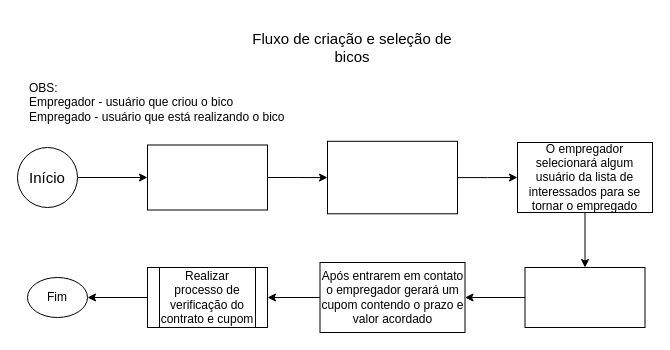
The diagram is 670 pixels wide and 350 high, and some of its shapes have lost their labels. Each missing label, with the centre of its shape:
"O empregador criará um bico com base em sua necessidade" belongs at (x=207, y=177).
"Será disponibilizado as formas de contato entre o empregador e empregado" belongs at (x=584, y=297).
"Usuários interessados em realizar esse bico se canditatam a vaga" belongs at (x=392, y=177).
